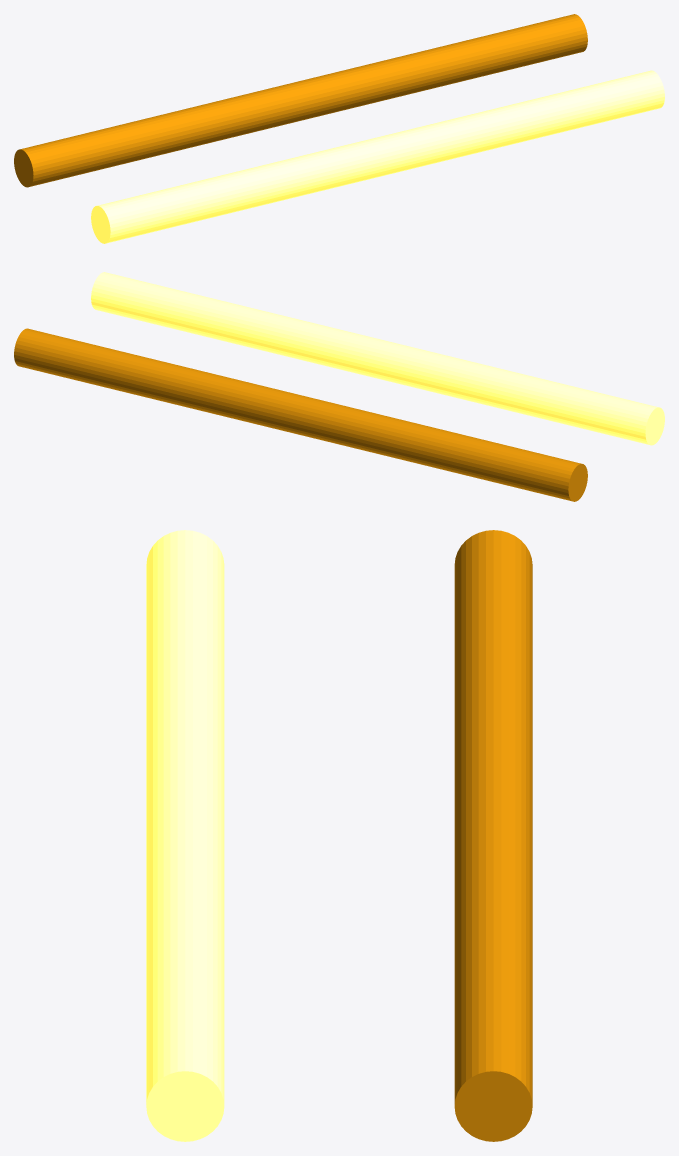
Rendered from emit.glb.
The picture shows the model from 3 angles, top to bottom: view 1: azimuth 30°, elevation 25°; view 2: azimuth 150°, elevation 25°; view 3: azimuth 270°, elevation 25°; orthographic projection. The views are drawn at different scales.
Visible parts, largest first — view 1: Cylinder, Cylinder.001; view 2: Cylinder, Cylinder.001; view 3: Cylinder, Cylinder.001.
Boxes of the visible parts, box(x1,y1,x2,y2) form: Cylinder: box(91, 70, 664, 243); Cylinder.001: box(14, 14, 587, 187); Cylinder: box(91, 272, 664, 445); Cylinder.001: box(14, 328, 587, 501); Cylinder: box(146, 530, 224, 1141); Cylinder.001: box(454, 530, 532, 1141).
Bounding box in the file's own units: 0.921 × 0.0562 × 0.2779.
